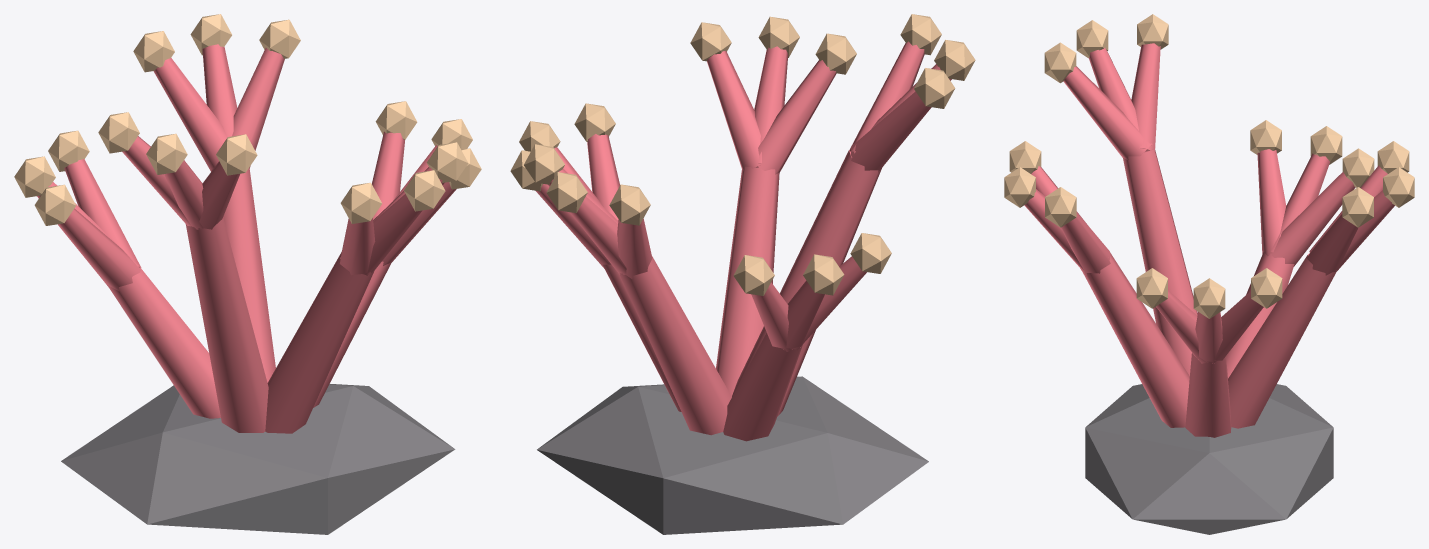
The model's file is ocean-scenery-29.glb.
The picture shows the model from 3 angles, left to right: view 1: azimuth 30°, elevation 25°; view 2: azimuth 150°, elevation 25°; view 3: azimuth 270°, elevation 25°; orthographic projection. The views are drawn at different scales.
Parts seen in each view (by area): view 1: Branching ocean coral; view 2: Branching ocean coral; view 3: Branching ocean coral.
Part boxes in pixels (x1,y1,x2,y2): Branching ocean coral: (14, 14, 481, 534); Branching ocean coral: (510, 14, 975, 534); Branching ocean coral: (1004, 14, 1414, 534).
Size of the model in its own units: 1.53 by 1.67 by 1.55.
